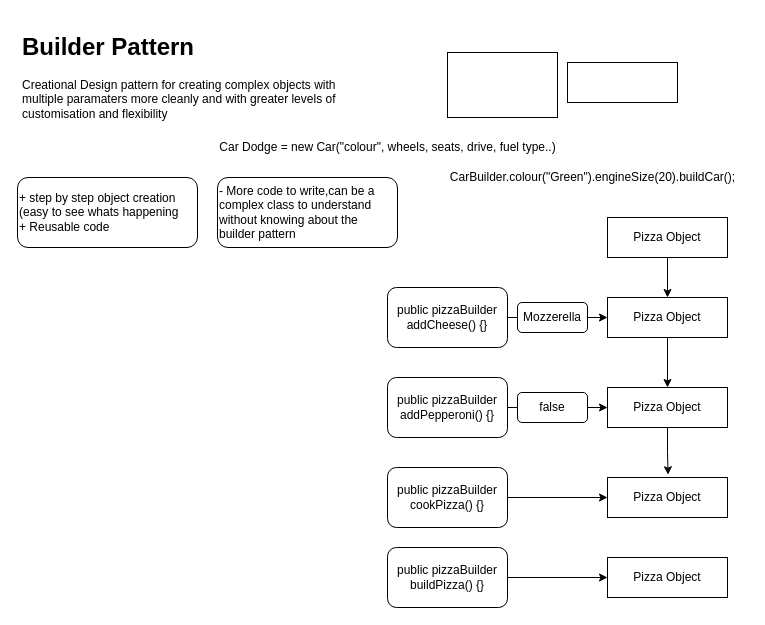
Image size: 765x625. Some labels were removed from this diagram. Here are the shapes that lost their labels. From the top down, the centre of each, then its label:
point (502, 85): Class 6 paramaters for String
point (622, 82): Constructor for 2 params(String)
